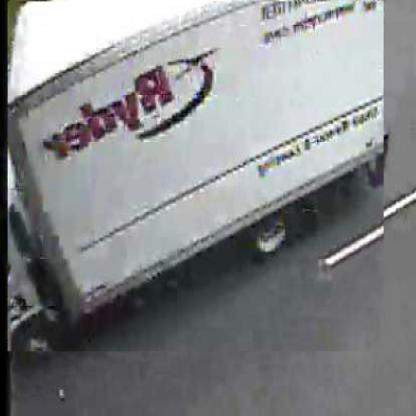truck: (8, 2, 385, 354)
